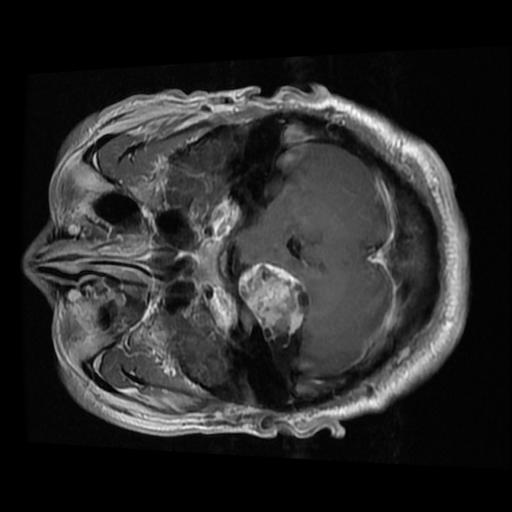meningioma: (237, 263, 305, 351)
